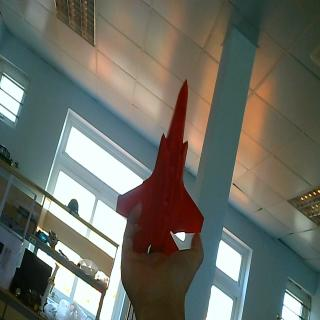Jet: (115, 77, 204, 235)
